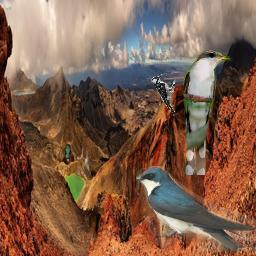Cuckoo: (182, 49, 233, 175)
Swallow: (136, 166, 256, 252)
Woodpecker: (151, 74, 176, 119)
